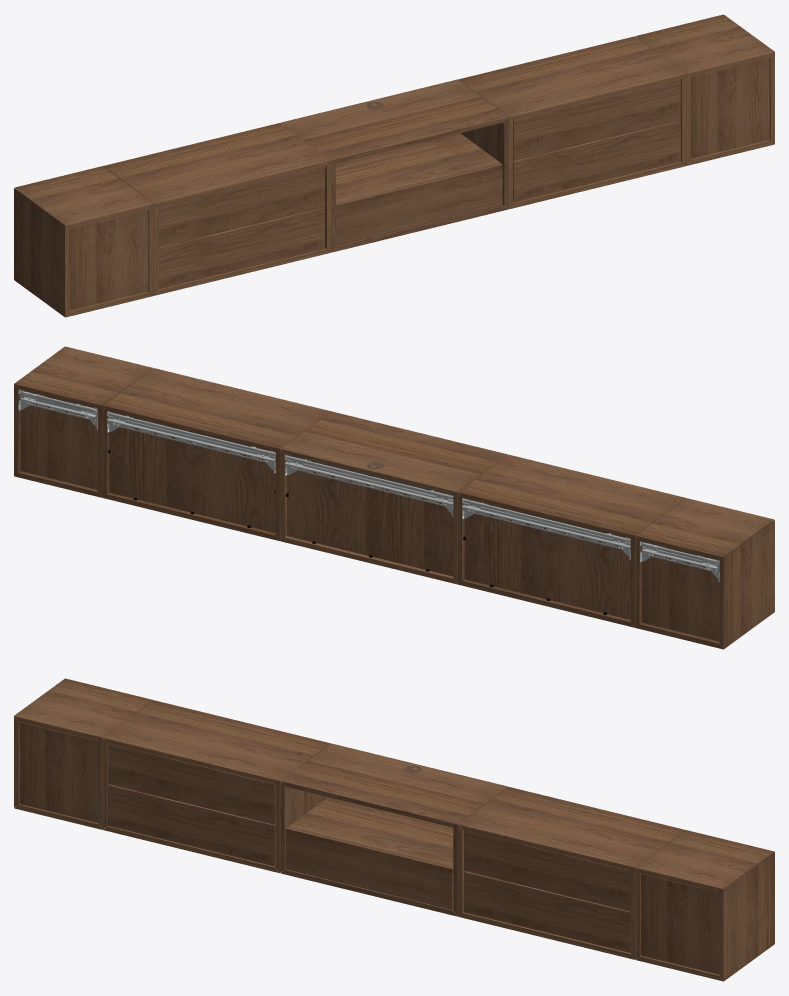
File: eket_szafka_na_tv_hifi_39580994.glb
The picture shows the model from 3 angles, top to bottom: view 1: azimuth 30°, elevation 25°; view 2: azimuth 150°, elevation 25°; view 3: azimuth 330°, elevation 25°; orthographic projection.
Parts seen in each view (by area): view 1: eket_szafka_na_tv_hifi_39580994; view 2: eket_szafka_na_tv_hifi_39580994; view 3: eket_szafka_na_tv_hifi_39580994.
Part boxes in pixels (box(x1,y1,x2,y2)): eket_szafka_na_tv_hifi_39580994: box(14, 14, 774, 317); eket_szafka_na_tv_hifi_39580994: box(14, 346, 774, 649); eket_szafka_na_tv_hifi_39580994: box(14, 678, 774, 981).
Bounding box in the file's own units: 2.8 × 0.3509 × 0.3525.
1 material, 1 textured.
